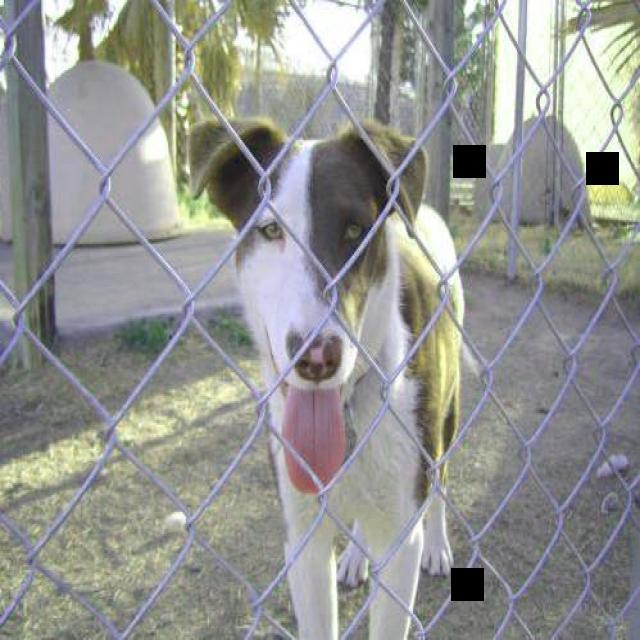adult_dog: (187, 118, 471, 640)
